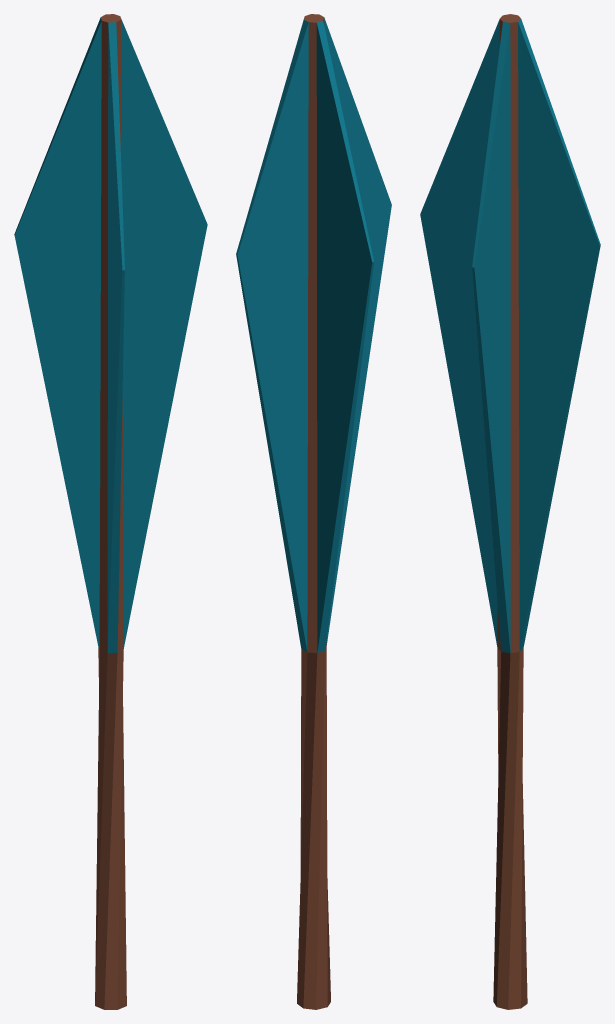
Rendered from Tree_29_summer_blue_vc.fbx.
3 renders of one model, left to right at view 1: azimuth 30°, elevation 25°; view 2: azimuth 150°, elevation 25°; view 3: azimuth 270°, elevation 25°, orthographic.
Visible parts, largest first — view 1: Tree_29_summer_blue_vc; view 2: Tree_29_summer_blue_vc; view 3: Tree_29_summer_blue_vc.
Part boxes in pixels (x1=…): Tree_29_summer_blue_vc: x1=14, y1=14, x2=207, y2=1009; Tree_29_summer_blue_vc: x1=236, y1=14, x2=391, y2=1009; Tree_29_summer_blue_vc: x1=420, y1=14, x2=600, y2=1009.
Size of the model in its own units: 48.99 by 294 by 48.99.
